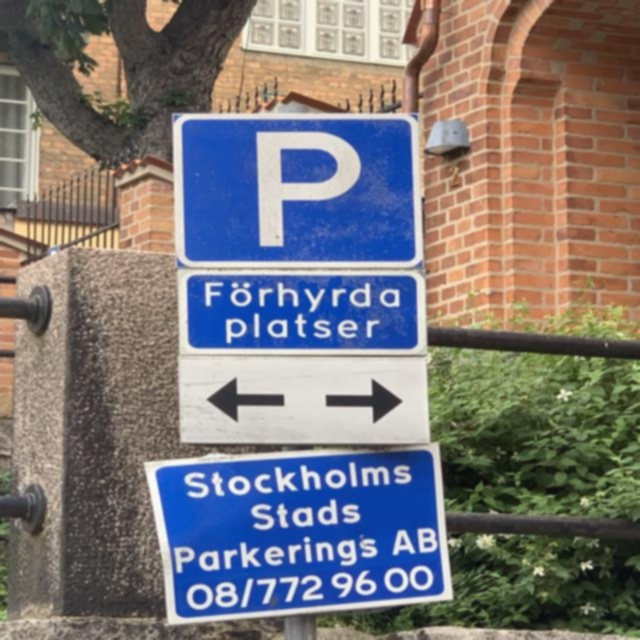P-skylt: (173, 107, 425, 270)
